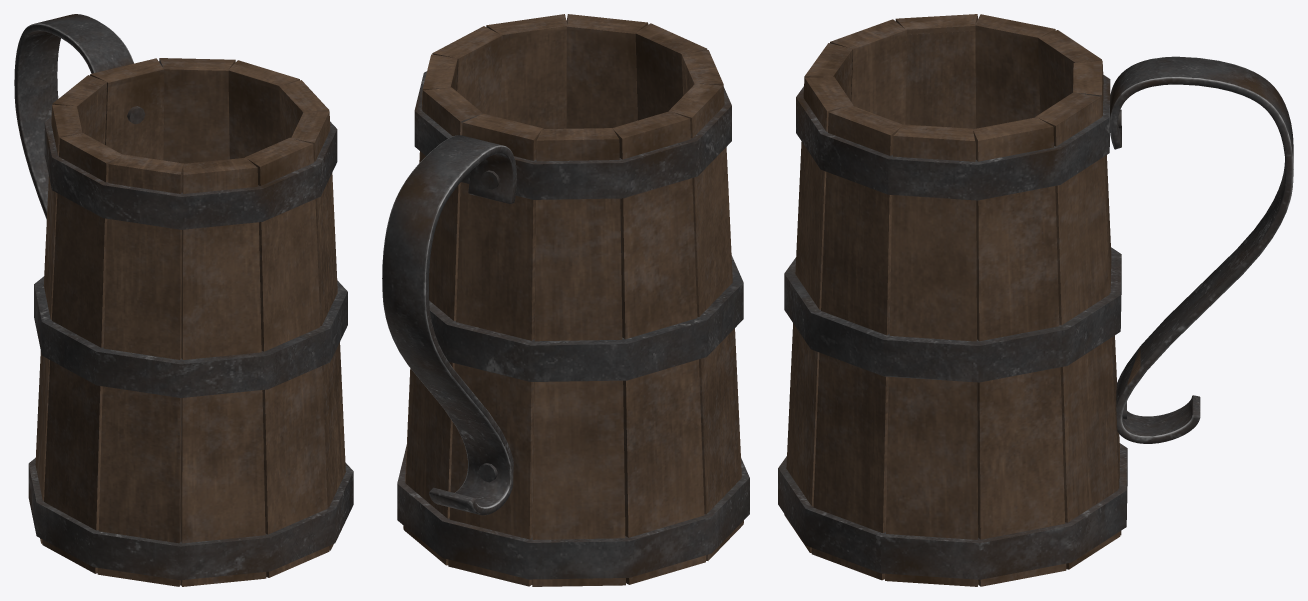
The model's file is Beer Mug.fbx.
3 renders of one model, left to right at view 1: azimuth 30°, elevation 25°; view 2: azimuth 150°, elevation 25°; view 3: azimuth 270°, elevation 25°, orthographic. The views are drawn at different scales.
Visible parts, largest first — view 1: Medieval_Beer_Mug; view 2: Medieval_Beer_Mug; view 3: Medieval_Beer_Mug.
Part boxes in pixels (<box>): Medieval_Beer_Mug: <box>14,14,353,586</box>; Medieval_Beer_Mug: <box>382,14,749,586</box>; Medieval_Beer_Mug: <box>778,14,1293,586</box>.
Bounding box in the file's own units: 13.94 × 19.55 × 20.39.
Materials: 1 (1 with a texture image).
